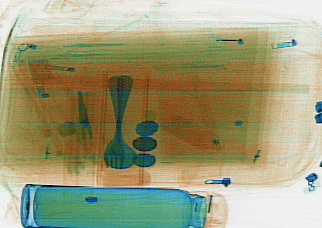scissors: (62, 87, 112, 167)
